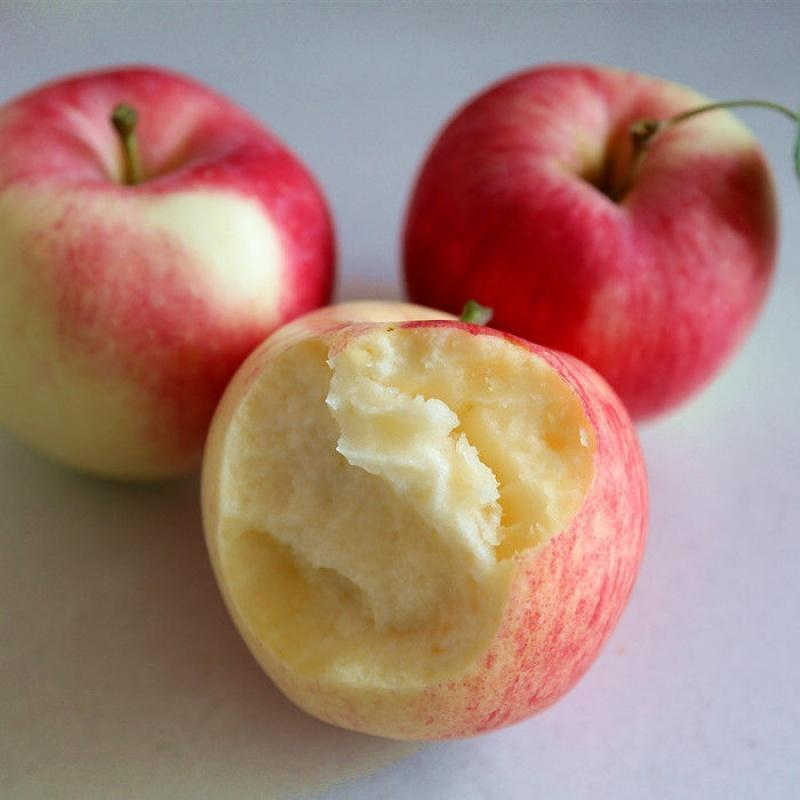apple: (196, 302, 650, 740), (1, 65, 337, 489), (398, 64, 783, 420)
